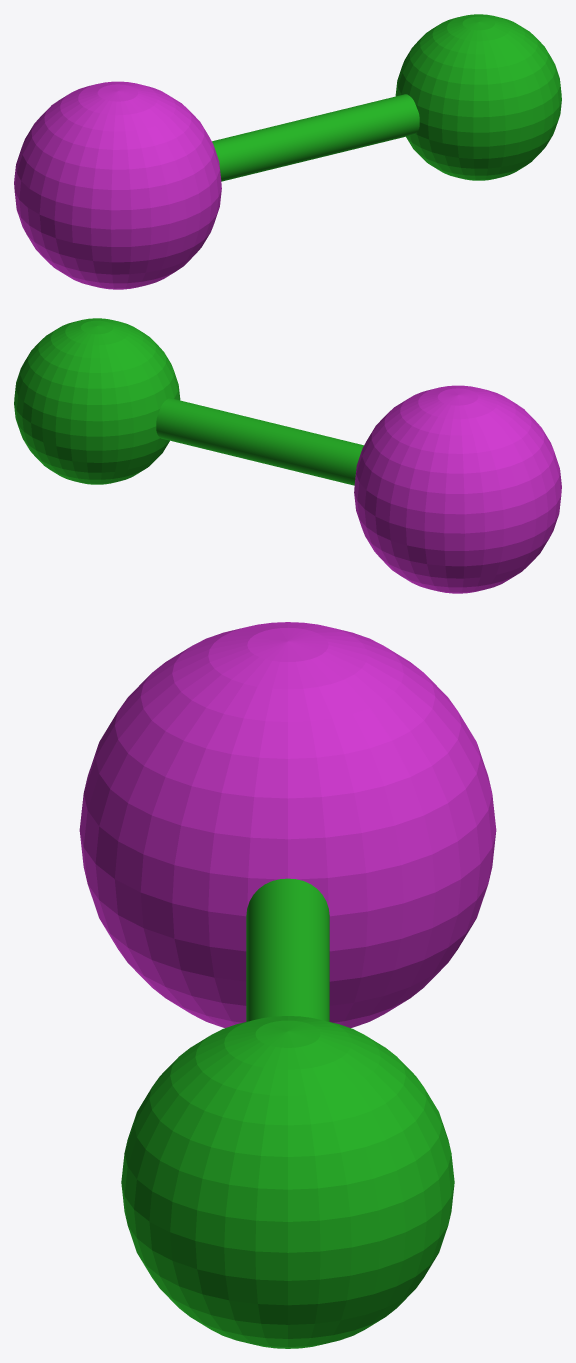
The model's file is sodium_chloride.fbx.
3 views of the same model, one above another, from view 1: azimuth 30°, elevation 25°; view 2: azimuth 150°, elevation 25°; view 3: azimuth 270°, elevation 25° (orthographic). The views are drawn at different scales.
Visible parts, largest first — view 1: sodium_chloride; view 2: sodium_chloride; view 3: sodium_chloride.
Part boxes in pixels (x1=…): sodium_chloride: x1=14, y1=14, x2=561, y2=289; sodium_chloride: x1=14, y1=318, x2=561, y2=593; sodium_chloride: x1=79, y1=622, x2=496, y2=1348.
Bounding box in the file's own units: 145 × 50 × 50.
